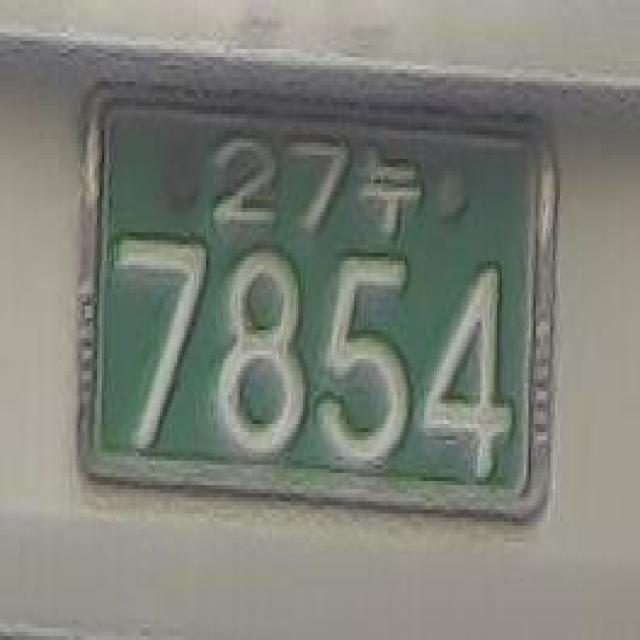illegal_plate: (61, 68, 568, 549)
